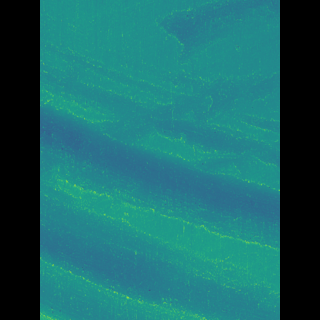Loch: (70, 74, 250, 320)
